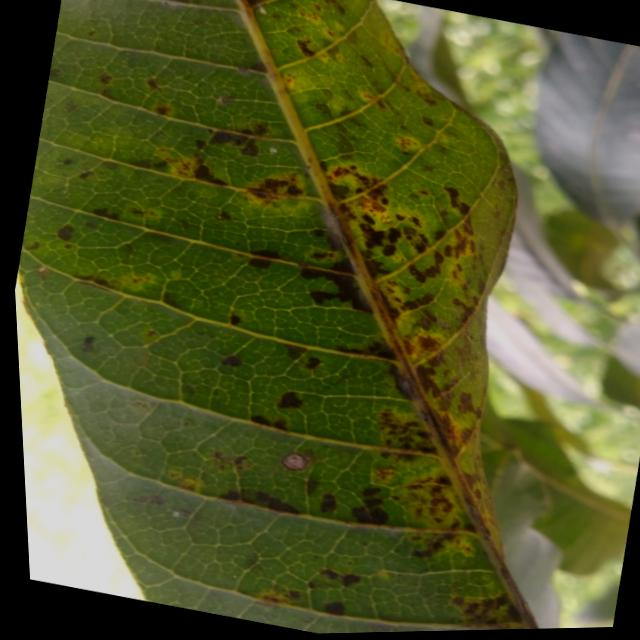Anthracnose: (297, 100, 473, 353), (328, 432, 476, 569), (183, 115, 316, 214)
